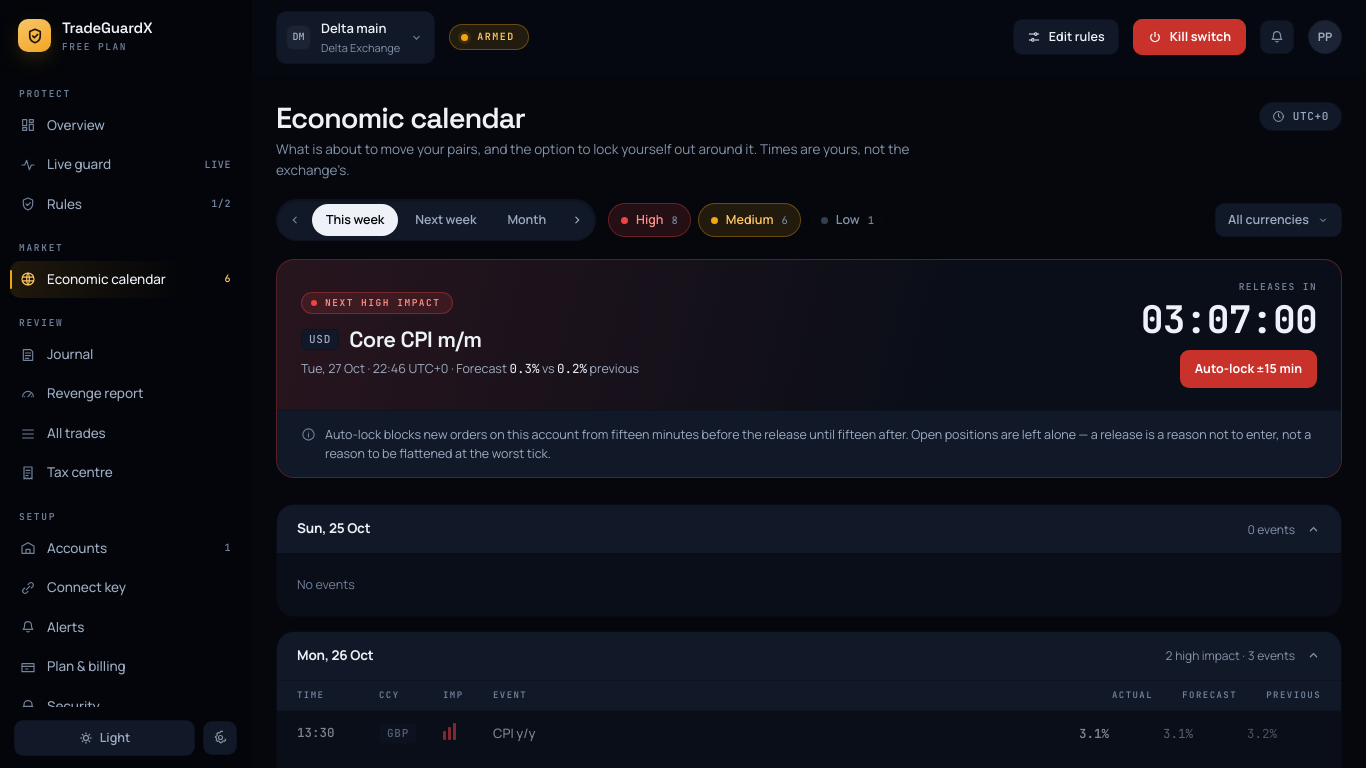
dashboard shell › renders the Economic calendar: Market nav, hero, all time variants, five ACTUAL states, empty day
This screenshot has width=1366, height=768.
Expected: the text "Next high impact" is shown, [325,298,440,308]
Expected: the text "Market" is shown, [19,241,64,254]
Note: the lock modal opens from the hero
Click the button "Auto-lock ±15 min": [1248, 369] box [1180,350,1317,388]
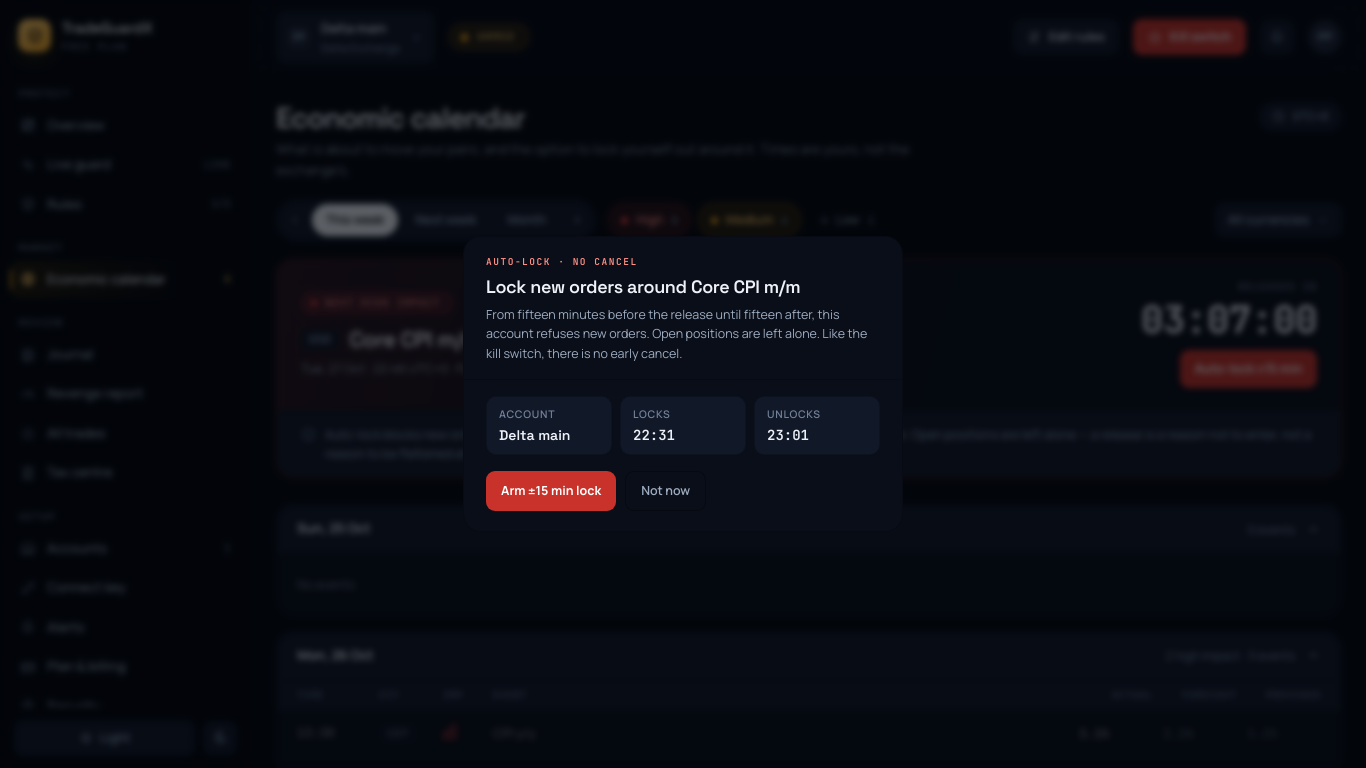
Expected: the dialog is shown, [463,236,903,532]
Expected: the heading "Lock new orders around Core CPI m/m" is shown, [486,275,800,298]
